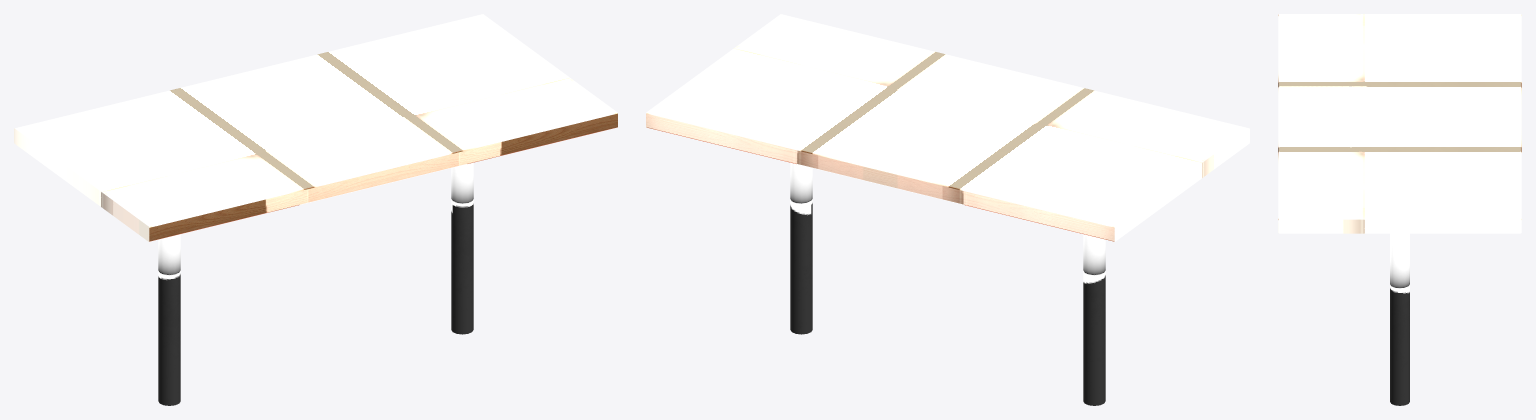
Rendered from SM_Table_01_Wide_Mid.fbx.
3 renders of one model, left to right at view 1: azimuth 30°, elevation 25°; view 2: azimuth 150°, elevation 25°; view 3: azimuth 270°, elevation 25°, orthographic. The views are drawn at different scales.
Visible parts, largest first — view 1: SM_Table_01_Wide_Mid_LOD0; view 2: SM_Table_01_Wide_Mid_LOD0; view 3: SM_Table_01_Wide_Mid_LOD0.
Boxes of the visible parts, box(x1,y1,x2,y2) form: SM_Table_01_Wide_Mid_LOD0: box(14, 14, 617, 405); SM_Table_01_Wide_Mid_LOD0: box(646, 14, 1249, 405); SM_Table_01_Wide_Mid_LOD0: box(1278, 14, 1521, 405).
Size of the model in its own units: 160 by 80 by 80.
